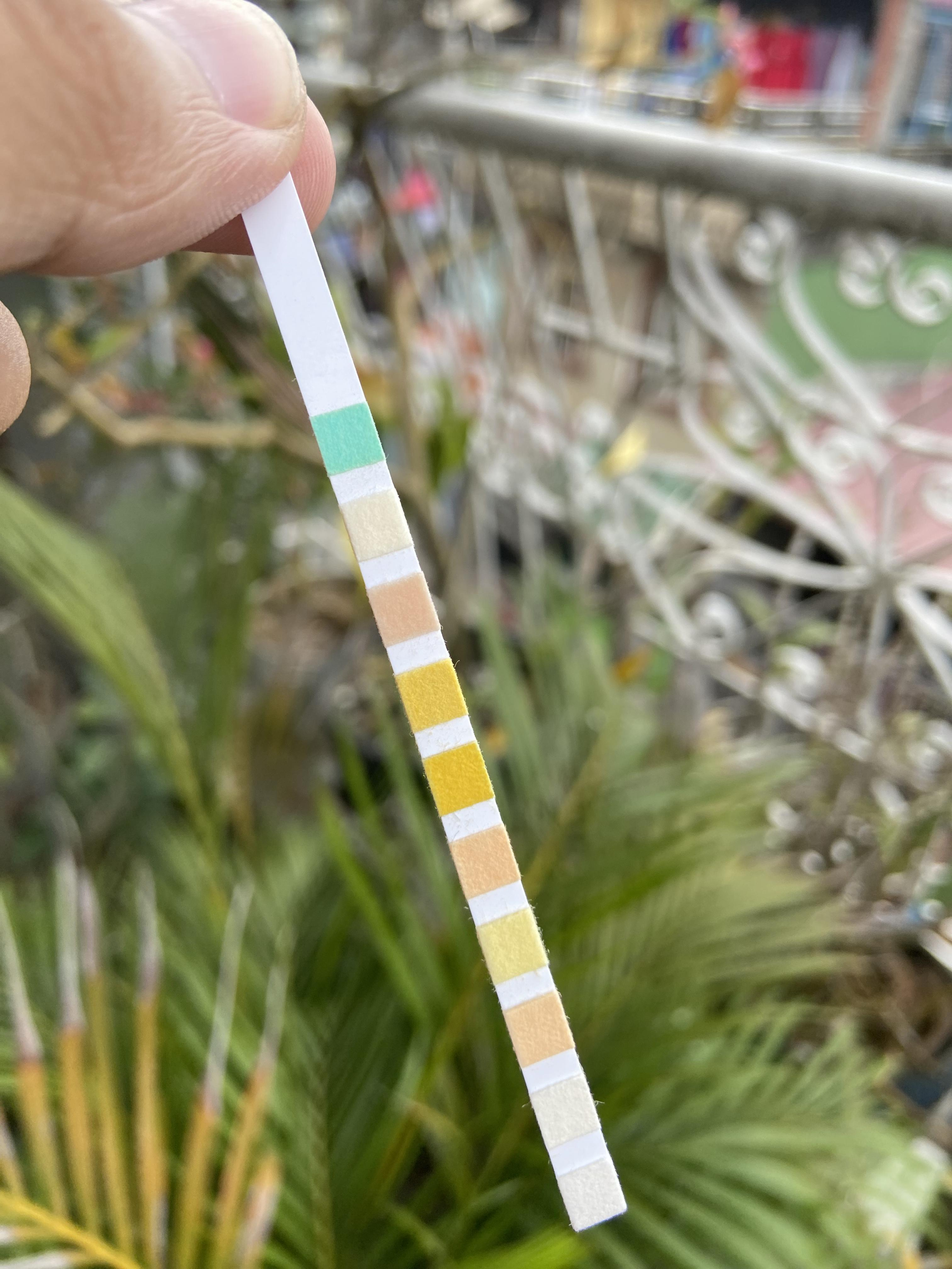Bilirubin: (356, 505, 399, 546)
Blood: (434, 758, 480, 801)
Glucose: (325, 416, 369, 456)
Ketone: (380, 589, 424, 629)
Leukocytes: (572, 1176, 613, 1216)
Nitrite: (545, 1093, 588, 1131)
Protein: (489, 927, 534, 966)
SpGravity: (408, 673, 453, 716)
Urobilinogen: (516, 1009, 561, 1047)
pH: (462, 840, 507, 882)
strip: (245, 188, 627, 1235)
